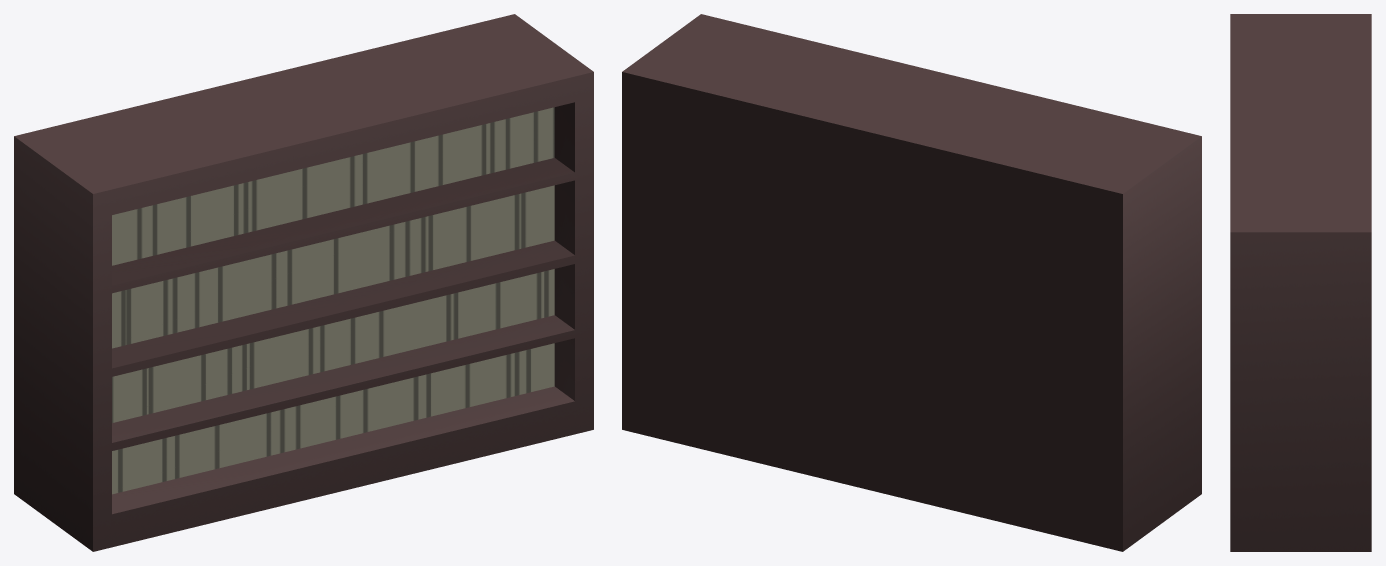
Rendered from BookShelf.fbx.
The picture shows the model from 3 angles, left to right: view 1: azimuth 30°, elevation 25°; view 2: azimuth 150°, elevation 25°; view 3: azimuth 270°, elevation 25°; orthographic projection. The views are drawn at different scales.
Visible parts, largest first — view 1: pCube34; view 2: pCube34; view 3: pCube34.
Boxes of the visible parts, x1,y1,x2,y2 form: pCube34: (14,14,593,551); pCube34: (622,14,1201,551); pCube34: (1230,14,1371,551).
Size of the model in its own units: 16.15 by 11.03 by 4.42.
Materials: 1 (1 with a texture image).
